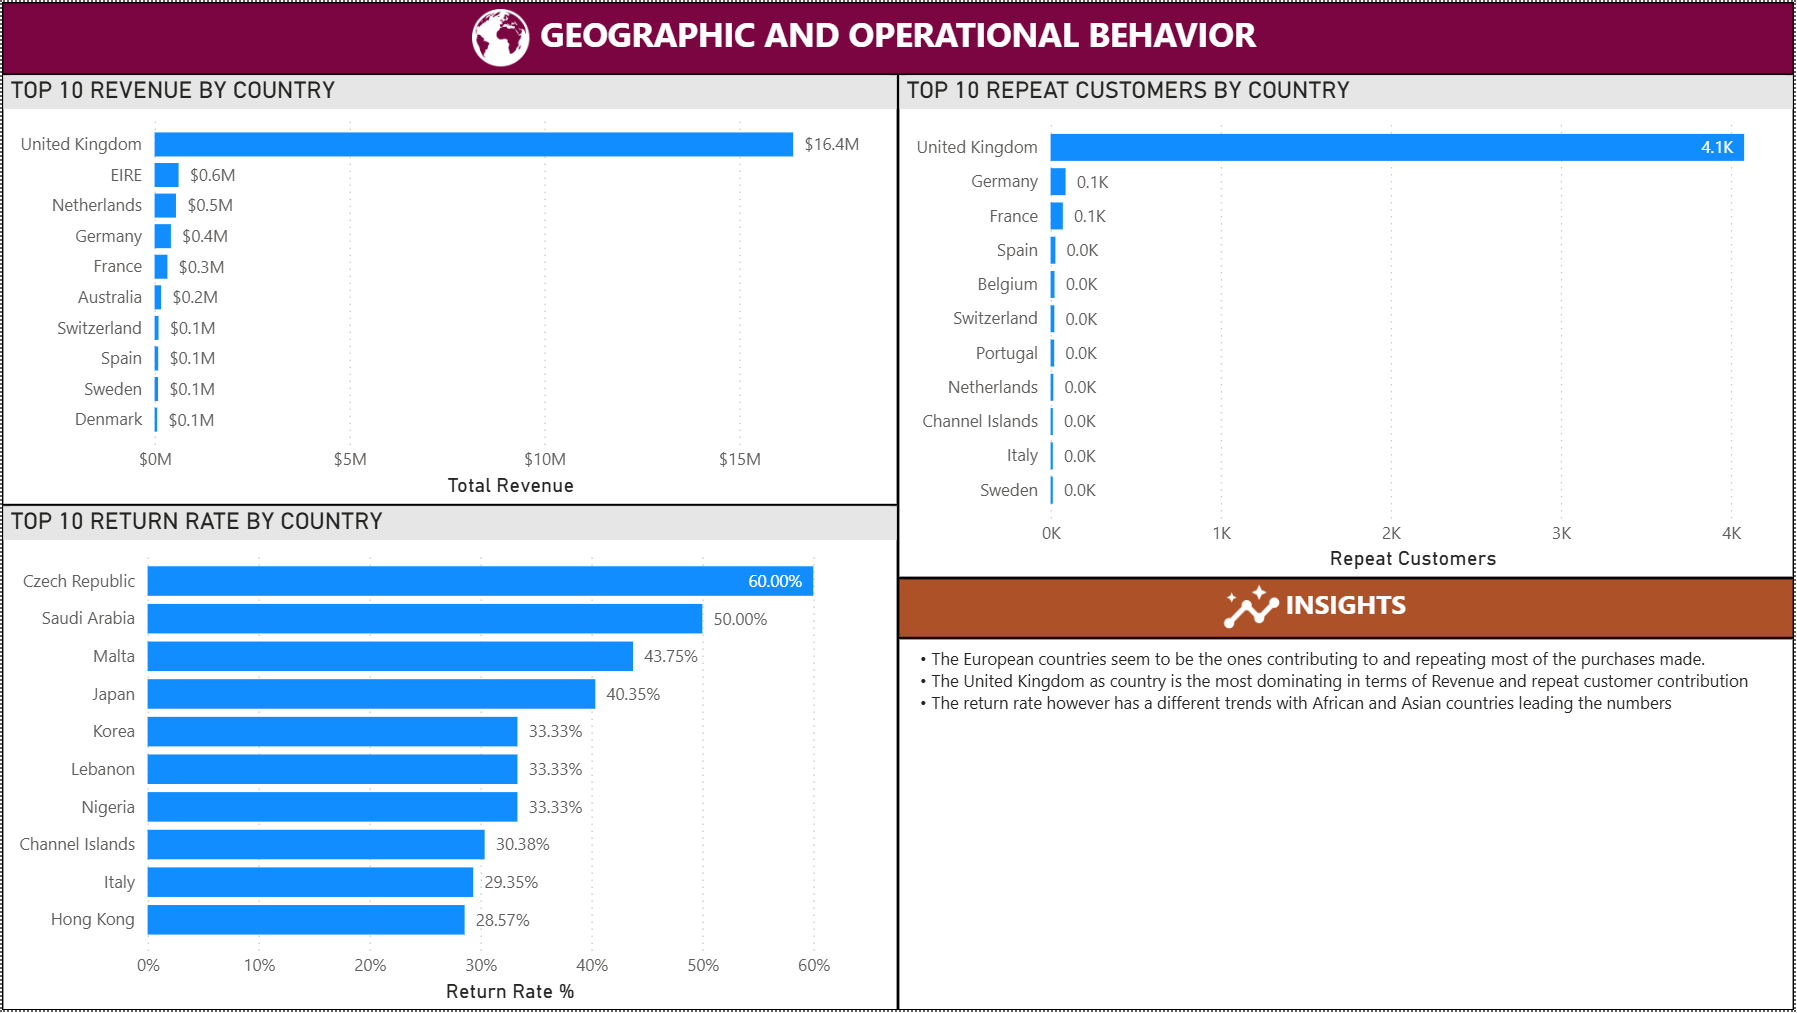

The dashboard page shown, as its layout file describes it:
{"tool":"powerbi","page":{"name":"Geographic and Operational Behavior","canvas":[1280,720],"ordinal":3},"visuals":[{"type":"barChart","title":"TOP 10 RETURN RATE BY COUNTRY","fields":{"Category":["invoice_summary.country"],"Y":["invoice_summary.Return Rate %"]},"box":[0,359,640,361],"z":0},{"type":"barChart","title":"TOP 10 REVENUE BY COUNTRY","fields":{"Category":["invoice_summary.country"],"Y":["invoice_summary.Total Revenue"]},"box":[0,51.2,640,307.5],"z":1000},{"type":"barChart","title":"TOP 10 REPEAT CUSTOMERS BY COUNTRY","fields":{"Category":["invoice_summary.country"],"Y":["invoice_summary.Repeat Customers"]},"box":[640,51.2,640,360],"z":2000},{"type":"textbox","box":[0,0,1280,51.7],"z":3000},{"type":"textbox","box":[640,454.3,640,265.7],"z":4000},{"type":"image","box":[326,5.3,61.3,40.7],"z":5000},{"type":"textbox","box":[640,411.4,640,42.9],"z":6000},{"type":"image","box":[867.1,410.7,50.7,43.6],"z":7000}]}

Visuals, with their boxes in screenshot pixels (x1, y1, x2, y2), scaled from the page's 1280x720 canvas onto the 1797x1013 screenshot:
"TOP 10 RETURN RATE BY COUNTRY" barChart: x1=0, y1=505, x2=898, y2=1012
"TOP 10 REVENUE BY COUNTRY" barChart: x1=0, y1=72, x2=898, y2=505
"TOP 10 REPEAT CUSTOMERS BY COUNTRY" barChart: x1=898, y1=72, x2=1796, y2=579
textbox: x1=0, y1=0, x2=1796, y2=73
textbox: x1=898, y1=639, x2=1796, y2=1012
image: x1=458, y1=7, x2=544, y2=65
textbox: x1=898, y1=579, x2=1796, y2=639
image: x1=1217, y1=578, x2=1289, y2=639
